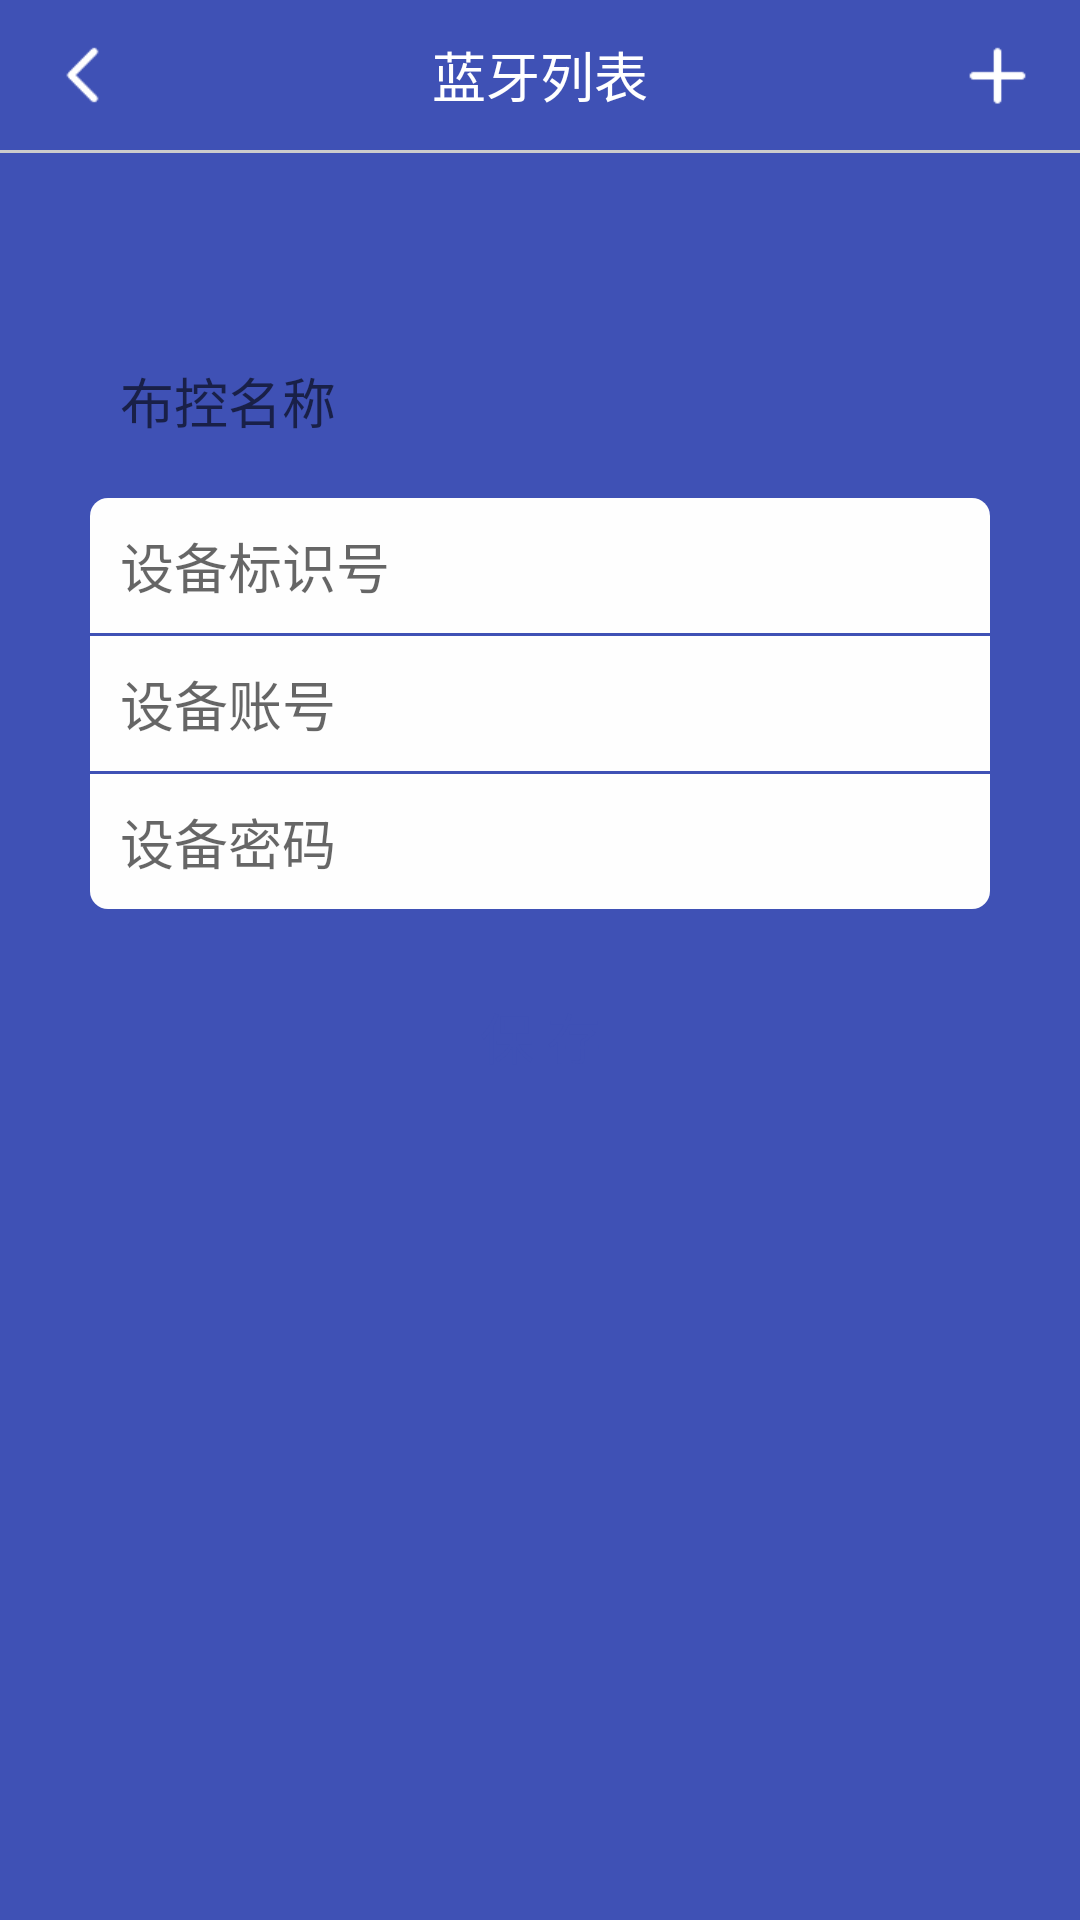

Icon click points for this 1080x1920 phone screenshot, format (x,y):
add device: (997,75)
back: (82,75)
